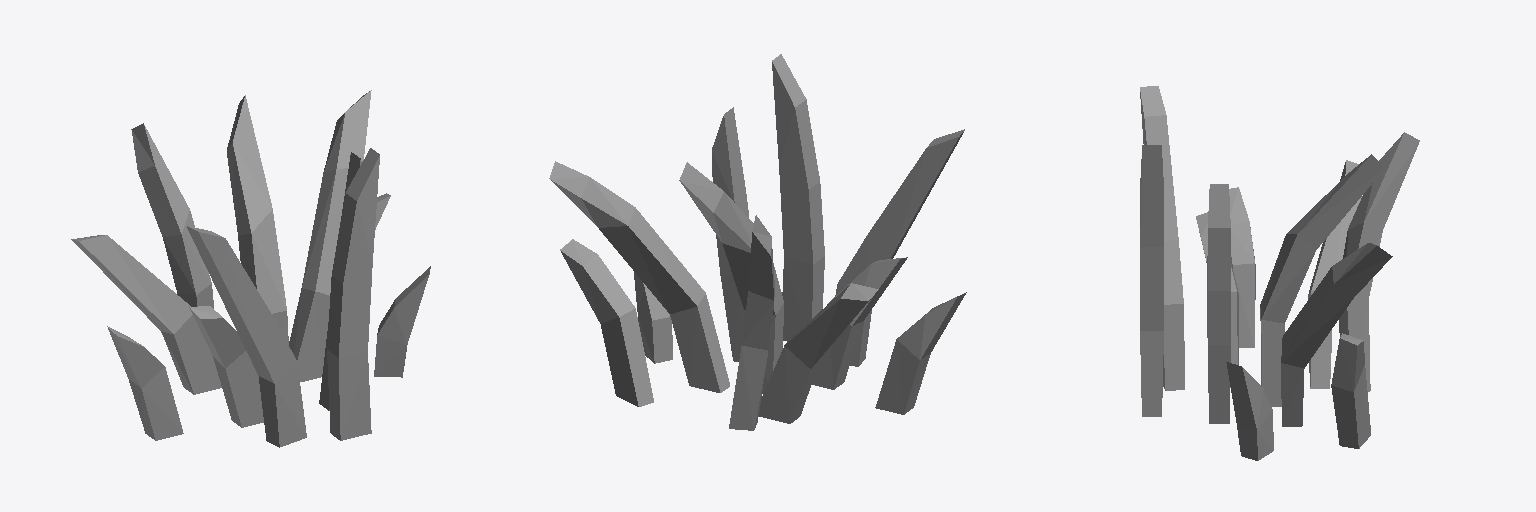
Rendered from Grass_1_Plane.obj.
3 renders of one model, left to right at view 1: azimuth 30°, elevation 25°; view 2: azimuth 150°, elevation 25°; view 3: azimuth 270°, elevation 25°, orthographic.
Parts seen in each view (by area): view 1: Grass_1_Plane.003; view 2: Grass_1_Plane.003; view 3: Grass_1_Plane.003.
Boxes of the visible parts, x1,y1,x2,y2 form: Grass_1_Plane.003: [71, 90, 430, 447]; Grass_1_Plane.003: [549, 54, 966, 430]; Grass_1_Plane.003: [1140, 86, 1419, 460].
Bounding box in the file's own units: 1.27 × 0.9905 × 0.9104.